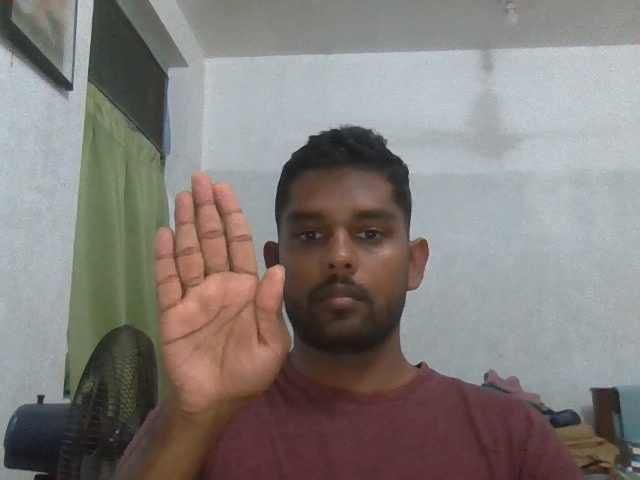bye: (142, 169, 296, 419)
